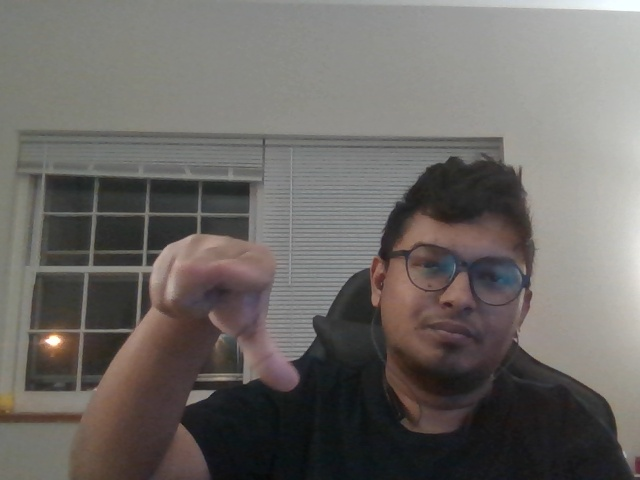no: (135, 217, 327, 415)
